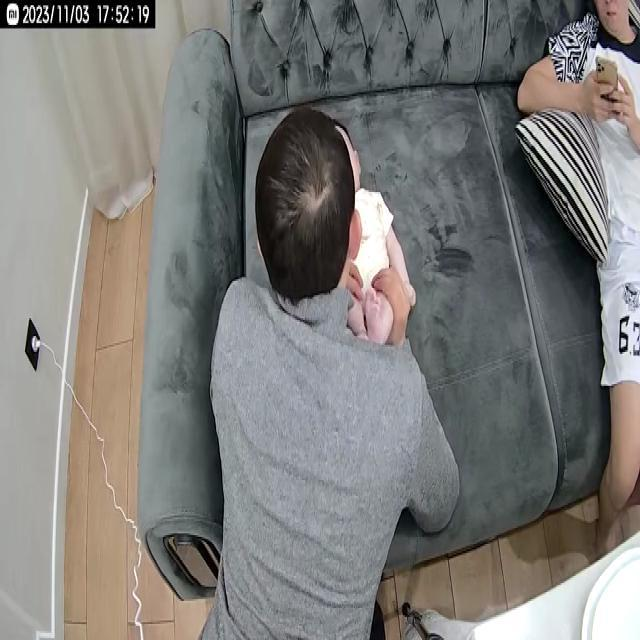baby: (331, 120, 418, 353)
